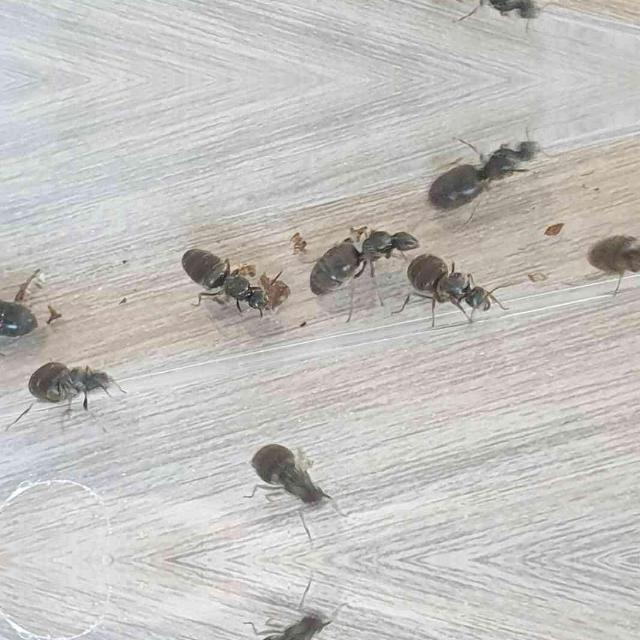Lasius: (411, 114, 567, 220), (404, 235, 528, 342), (297, 213, 427, 304), (22, 348, 160, 422), (239, 430, 335, 522), (176, 235, 274, 319), (411, 0, 567, 44), (239, 594, 335, 640), (584, 228, 638, 286), (0, 288, 38, 342)
